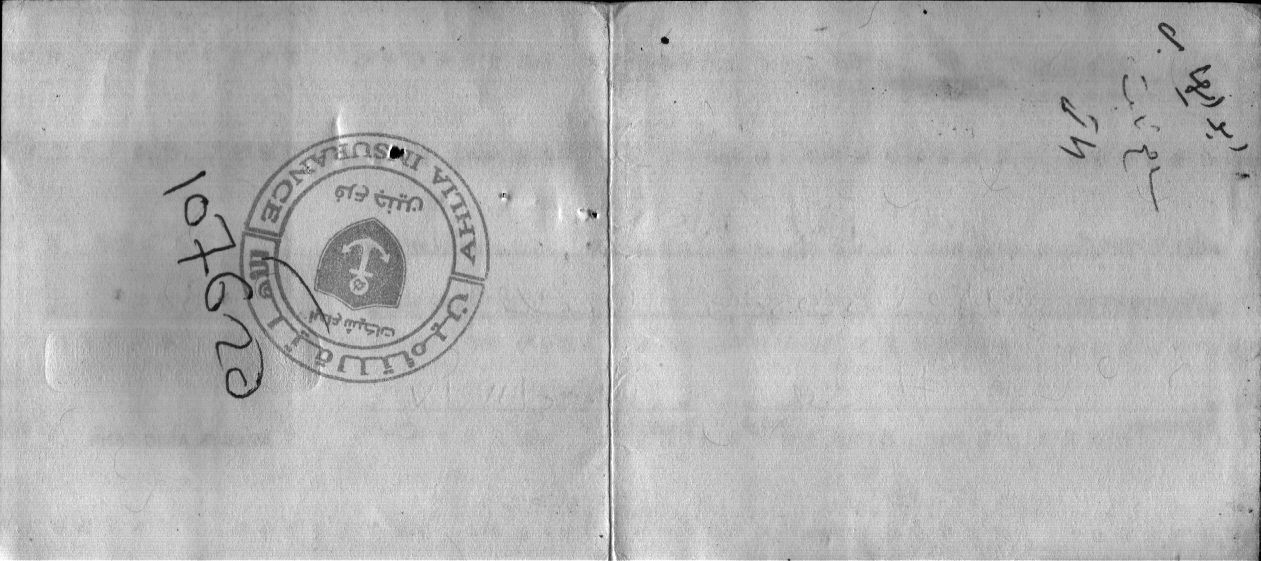stamp: (236, 130, 492, 386)
